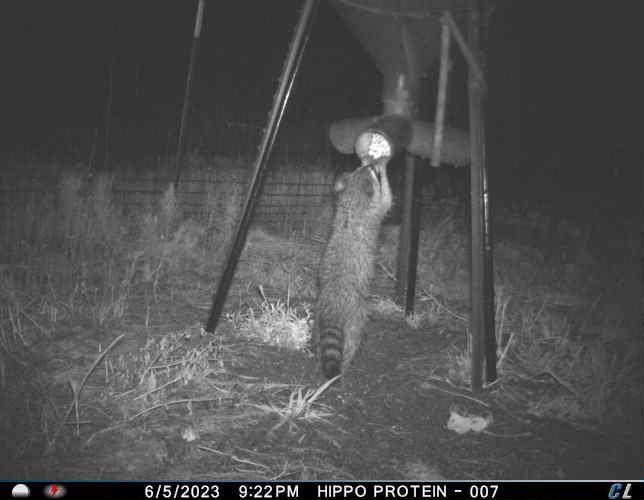Raccoon: (309, 154, 396, 383)
